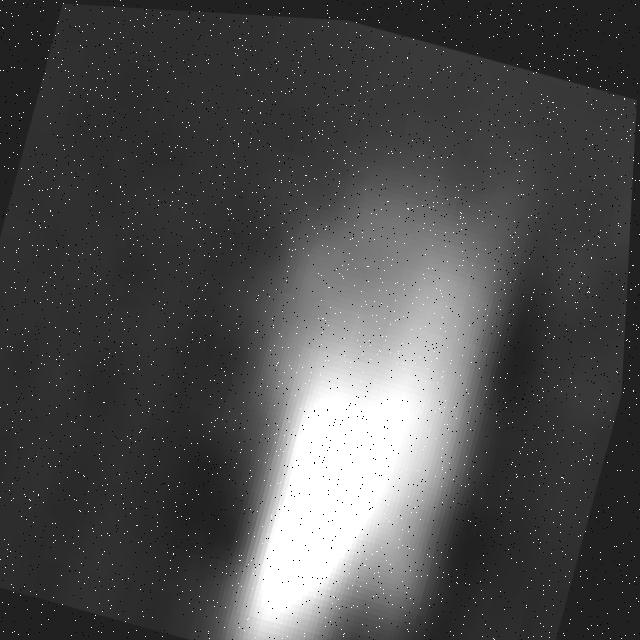person: (153, 134, 546, 640)
